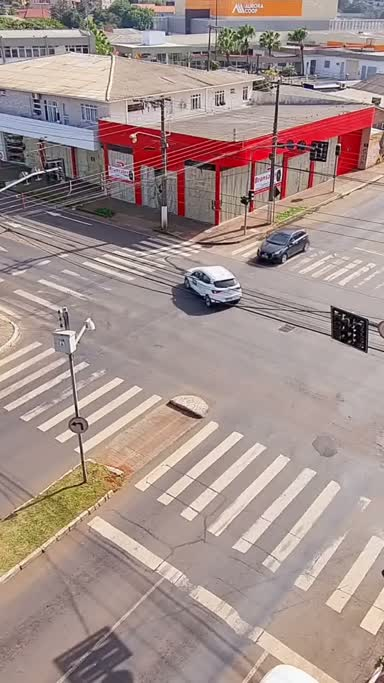car: (179, 259, 247, 317), (254, 222, 315, 272)
